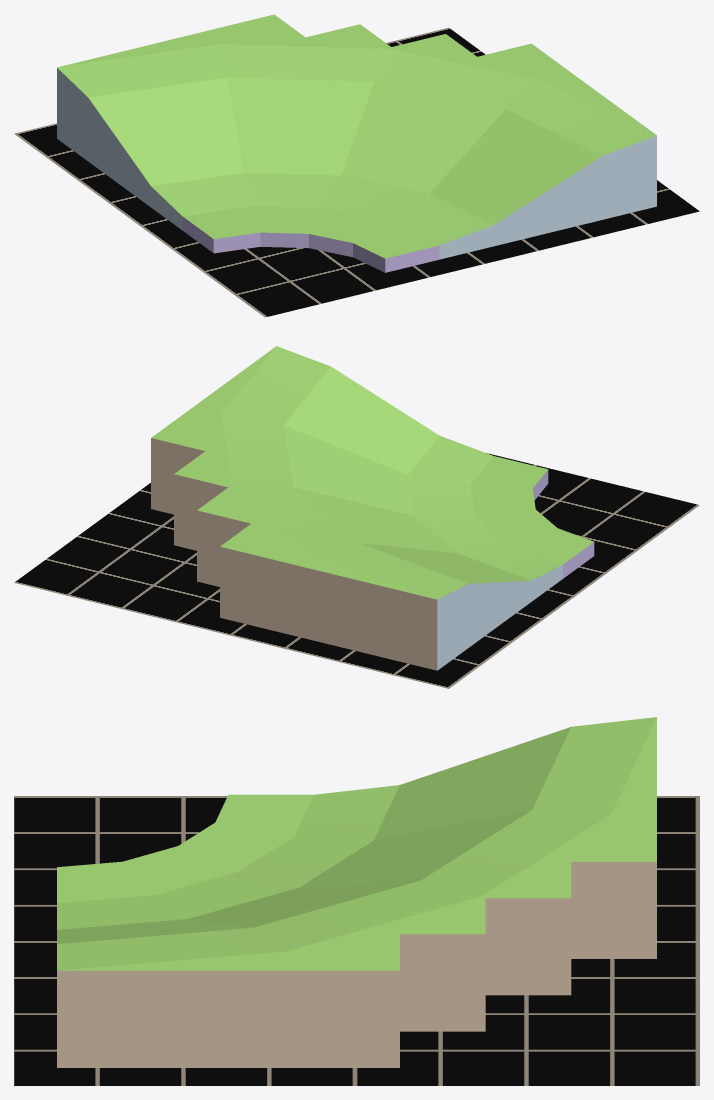
The model's file is Grass_Hill_Gentle_Curve_Inner_6x6.glb.
3 views of the same model, one above another, from view 1: azimuth 30°, elevation 25°; view 2: azimuth 150°, elevation 25°; view 3: azimuth 270°, elevation 25° (orthographic). The views are drawn at different scales.
Visible parts, largest first — view 1: Grass_Hill_Gentle_Curve_Inner_6x6, Floor; view 2: Grass_Hill_Gentle_Curve_Inner_6x6, Floor; view 3: Grass_Hill_Gentle_Curve_Inner_6x6, Floor.
Part boxes in pixels (x1,y1,x2,y2): Grass_Hill_Gentle_Curve_Inner_6x6: (57,14,656,272); Floor: (14,27,699,317); Grass_Hill_Gentle_Curve_Inner_6x6: (151,346,594,670); Floor: (14,453,699,688); Grass_Hill_Gentle_Curve_Inner_6x6: (57,717,656,1067); Floor: (14,796,699,1085).
Bounding box in the file's own units: 800 × 125 × 800.
6 materials, 1 textured.
